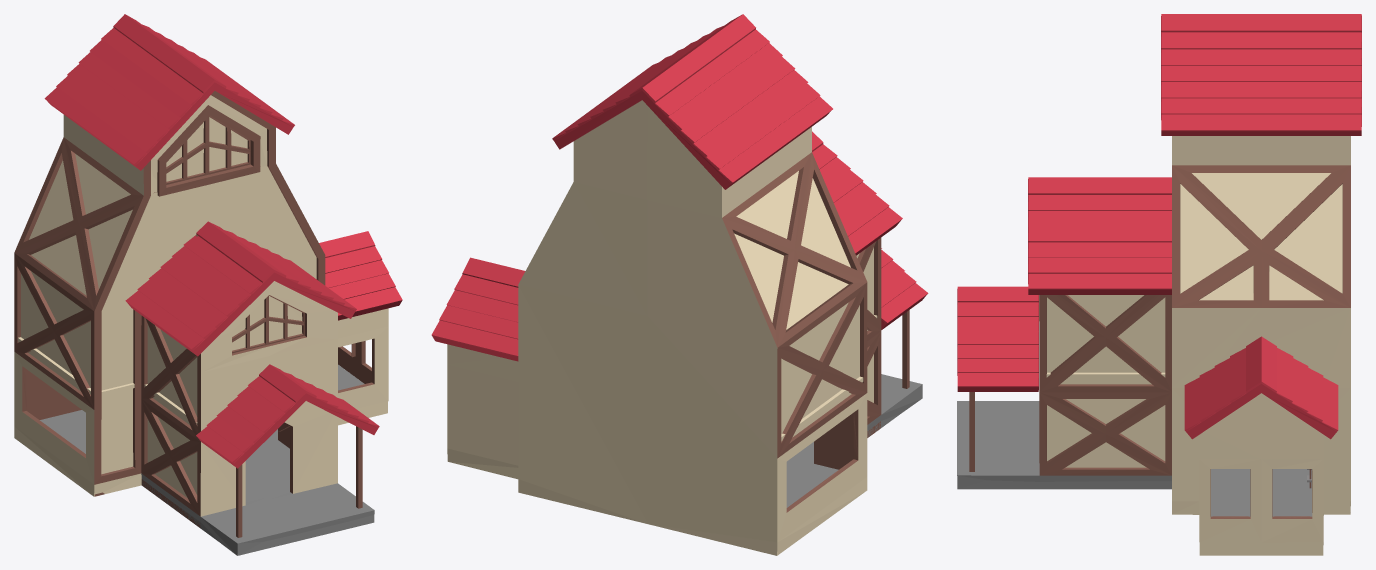
The model's file is 028 House_2.FBX.
3 renders of one model, left to right at view 1: azimuth 30°, elevation 25°; view 2: azimuth 150°, elevation 25°; view 3: azimuth 270°, elevation 25°, orthographic. The views are drawn at different scales.
Visible parts, largest first — view 1: House; view 2: House; view 3: House.
Part boxes in pixels (left/top/right/bottom): House: left=14, top=14, right=402, bottom=555; House: left=431, top=14, right=928, bottom=555; House: left=957, top=14, right=1361, bottom=555.
Size of the model in its own units: 682 by 814 by 682.
